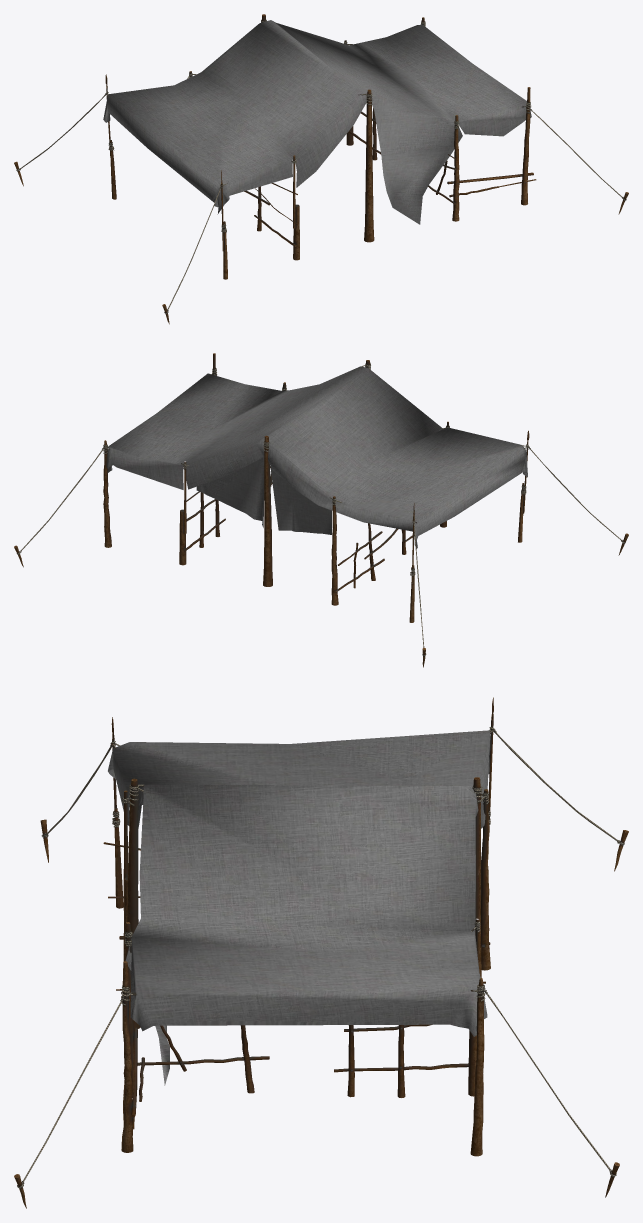
Rendered from prop-tent.329e3aeb.glb.
The picture shows the model from 3 angles, top to bottom: view 1: azimuth 30°, elevation 25°; view 2: azimuth 150°, elevation 25°; view 3: azimuth 270°, elevation 25°; orthographic projection. The views are drawn at different scales.
Visible parts, largest first — view 1: 01_01_0, 02_02_0; view 2: 01_01_0, 02_02_0; view 3: 01_01_0, 02_02_0.
Part boxes in pixels (x1,y1,x2,y2): 01_01_0: (103, 20, 531, 224); 02_02_0: (14, 14, 628, 324); 01_01_0: (107, 366, 527, 548); 02_02_0: (14, 353, 628, 667); 01_01_0: (108, 730, 490, 1085); 02_02_0: (14, 697, 628, 1208).
Bounding box in the file's own units: 1.12 × 0.3757 × 0.7895.
2 materials, 2 textured.
